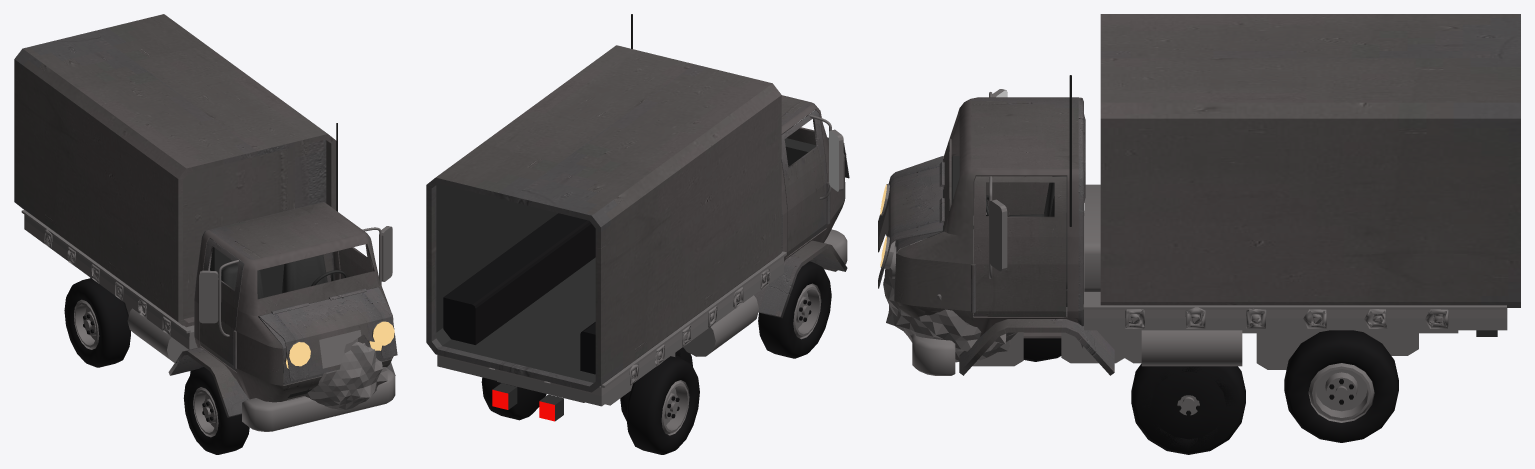
The model's file is Cargo_Truck.glb.
3 views of the same model, side by side, from view 1: azimuth 30°, elevation 25°; view 2: azimuth 150°, elevation 25°; view 3: azimuth 270°, elevation 25° (orthographic). The views are drawn at different scales.
Parts seen in each view (by area): view 1: Wreck Mat_plastic_utility, Body Mat_plastic_utility, Wreck Mat_Metal_Utility, Wreck Officer Truck, Body Mat_Metal_Utility, Wreck Truck 2, Body Truck 2, Wreck Headlight; view 2: Body Mat_plastic_utility, Wreck Mat_plastic_utility, Body Truck 2, Wreck Officer Truck, Wreck Mat_Metal_Utility, Body Officer Truck, Wreck Truck 2, Body Mat_Metal_Utility, Body brakes; view 3: Wreck Mat_plastic_utility, Wreck Mat_Metal_Utility, Body Mat_plastic_utility, Wreck Officer Truck, Wheel_R, Body Mat_Metal_Utility, Wheel_L, Wreck Truck 2.
Boxes of the visible parts, x1,y1,x2,y2 form: Wreck Mat_plastic_utility: (17,14,397,416); Body Mat_plastic_utility: (14,56,393,417); Wreck Mat_Metal_Utility: (21,210,393,437); Wreck Officer Truck: (64,278,249,454); Body Mat_Metal_Utility: (21,211,395,430); Wreck Truck 2: (210,238,370,397); Body Truck 2: (221,255,327,396); Wreck Headlight: (289,321,394,366); Body Mat_plastic_utility: (426,91,847,392); Wreck Mat_plastic_utility: (426,45,849,392); Body Truck 2: (436,184,595,416); Wreck Officer Truck: (451,223,831,454); Wreck Mat_Metal_Utility: (437,114,846,435); Body Officer Truck: (443,213,595,374); Wreck Truck 2: (436,138,816,421); Body Mat_Metal_Utility: (437,115,847,406); Body brakes: (492,389,554,421); Wreck Mat_plastic_utility: (878,14,1520,375); Wreck Mat_Metal_Utility: (879,92,1507,422); Body Mat_plastic_utility: (894,97,1084,356); Wreck Officer Truck: (1023,330,1398,442); Wheel_R: (1131,365,1245,454); Body Mat_Metal_Utility: (892,89,1506,374); Wheel_L: (1131,363,1245,452); Wreck Truck 2: (927,156,1497,336).
Size of the model in its own units: 2.85 by 4.57 by 6.4.
16 materials, 2 textured.
